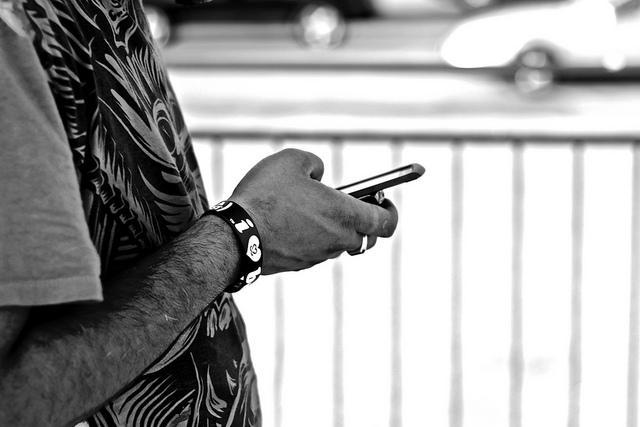hand: (112, 121, 437, 338)
phone: (319, 152, 442, 214)
